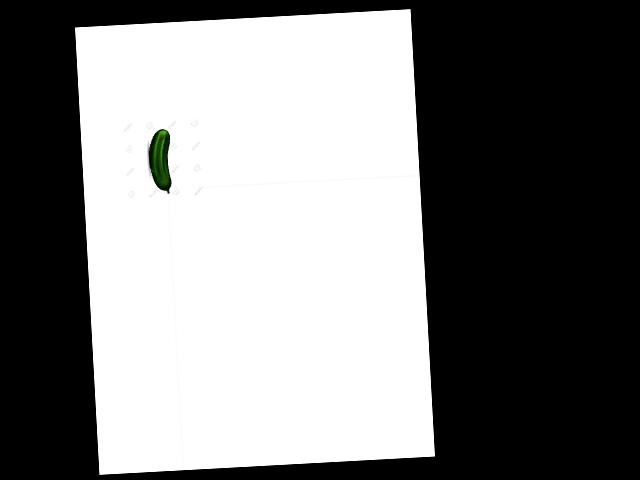cucumber: (147, 128, 172, 194)
